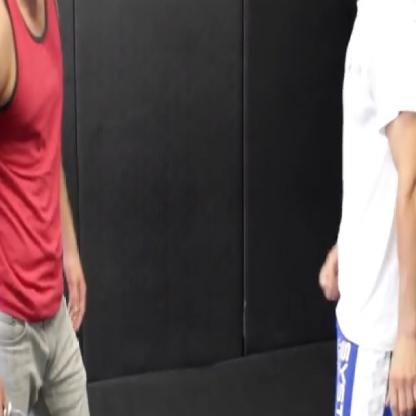knife: (0, 373, 70, 415)
